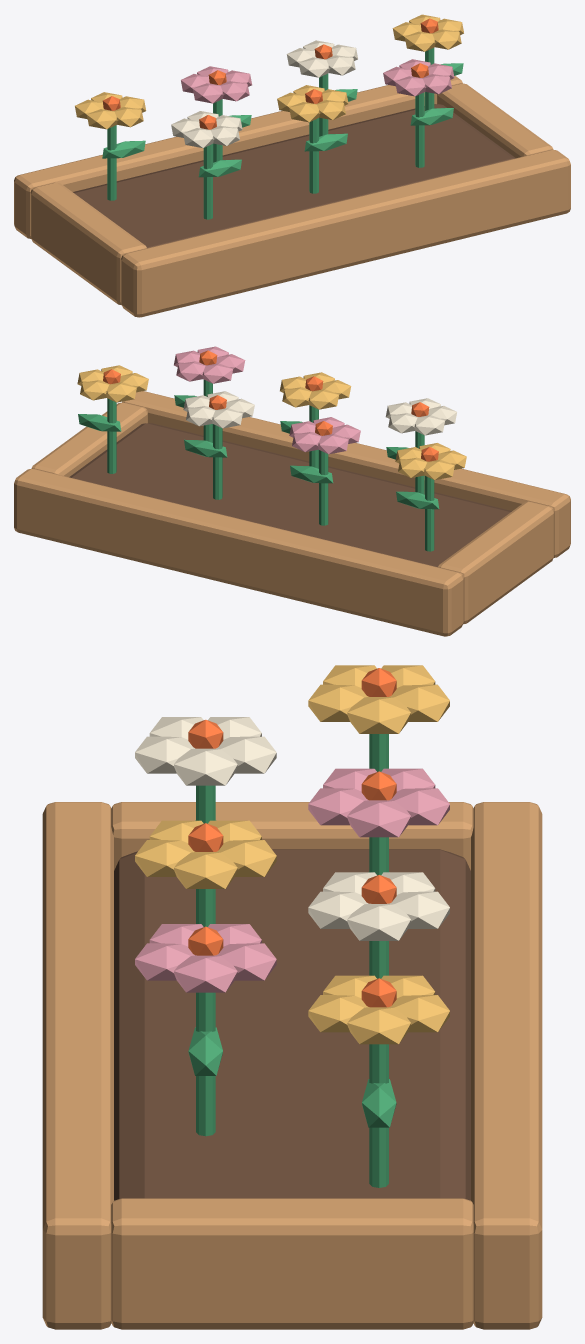
Rendered from flowerbed.glb.
The picture shows the model from 3 angles, top to bottom: view 1: azimuth 30°, elevation 25°; view 2: azimuth 150°, elevation 25°; view 3: azimuth 270°, elevation 25°; orthographic projection. The views are drawn at different scales.
Visible parts, largest first — view 1: flowerbed__Timber edging, flowerbed__Soil, flowerbed__Timber edging.001, flowerbed__Timber edging.002, flowerbed__Timber edging.003, flowerbed__Stem.005, flowerbed__Stem, flowerbed__Stem.001, flowerbed__Stem.003, flowerbed__Leaf, flowerbed__Leaf.003, flowerbed__Leaf.005 (+15 smaller); view 2: flowerbed__Timber edging.001, flowerbed__Soil, flowerbed__Timber edging, flowerbed__Timber edging.002, flowerbed__Timber edging.003, flowerbed__Stem.006, flowerbed__Stem.004, flowerbed__Stem, flowerbed__Stem.002, flowerbed__Leaf.006, flowerbed__Leaf.002, flowerbed__Leaf (+15 smaller); view 3: flowerbed__Soil, flowerbed__Timber edging.003, flowerbed__Timber edging, flowerbed__Timber edging.001, flowerbed__Timber edging.002, flowerbed__Stem.006, flowerbed__Stem.005, flowerbed__Petal.030, flowerbed__Petal.010, flowerbed__Petal.025, flowerbed__Petal.005, flowerbed__Petal.020 (+39 smaller).
Part boxes in pixels (bbox=[...]): flowerbed__Timber edging: bbox=[121, 149, 570, 317]; flowerbed__Soil: bbox=[73, 104, 515, 248]; flowerbed__Timber edging.001: bbox=[14, 76, 462, 238]; flowerbed__Timber edging.002: bbox=[30, 182, 146, 305]; flowerbed__Timber edging.003: bbox=[437, 83, 553, 158]; flowerbed__Stem.005: bbox=[415, 92, 424, 167]; flowerbed__Stem: bbox=[107, 125, 116, 200]; flowerbed__Stem.001: bbox=[203, 144, 212, 219]; flowerbed__Stem.003: bbox=[309, 118, 318, 193]; flowerbed__Leaf: bbox=[102, 140, 145, 158]; flowerbed__Leaf.003: bbox=[304, 133, 347, 151]; flowerbed__Leaf.005: bbox=[410, 108, 453, 125]; flowerbed__Timber edging.001: bbox=[14, 468, 463, 636]; flowerbed__Soil: bbox=[69, 423, 511, 567]; flowerbed__Timber edging: bbox=[122, 391, 570, 557]; flowerbed__Timber edging.002: bbox=[438, 501, 554, 624]; flowerbed__Timber edging.003: bbox=[31, 402, 147, 477]; flowerbed__Stem.006: bbox=[107, 398, 116, 473]; flowerbed__Stem.004: bbox=[213, 424, 222, 499]; flowerbed__Stem: bbox=[425, 476, 434, 551]; flowerbed__Stem.002: bbox=[319, 450, 328, 525]; flowerbed__Leaf.006: bbox=[78, 414, 121, 431]; flowerbed__Leaf.002: bbox=[290, 465, 333, 483]; flowerbed__Leaf: bbox=[396, 491, 439, 509]; flowerbed__Soil: bbox=[114, 849, 470, 1200]; flowerbed__Timber edging.003: bbox=[111, 1198, 473, 1329]; flowerbed__Timber edging: bbox=[42, 802, 113, 1329]; flowerbed__Timber edging.001: bbox=[471, 802, 542, 1329]; flowerbed__Timber edging.002: bbox=[111, 802, 473, 870]; flowerbed__Stem.006: bbox=[369, 1044, 388, 1187]; flowerbed__Stem.005: bbox=[196, 992, 215, 1136]; flowerbed__Petal.030: bbox=[347, 1007, 410, 1044]; flowerbed__Petal.010: bbox=[347, 800, 410, 837]; flowerbed__Petal.025: bbox=[174, 955, 237, 992]; flowerbed__Petal.005: bbox=[174, 748, 237, 785]; flowerbed__Petal.020: bbox=[347, 903, 410, 940].
Bounding box in the file's own units: 0.396 × 0.1291 × 0.196.
